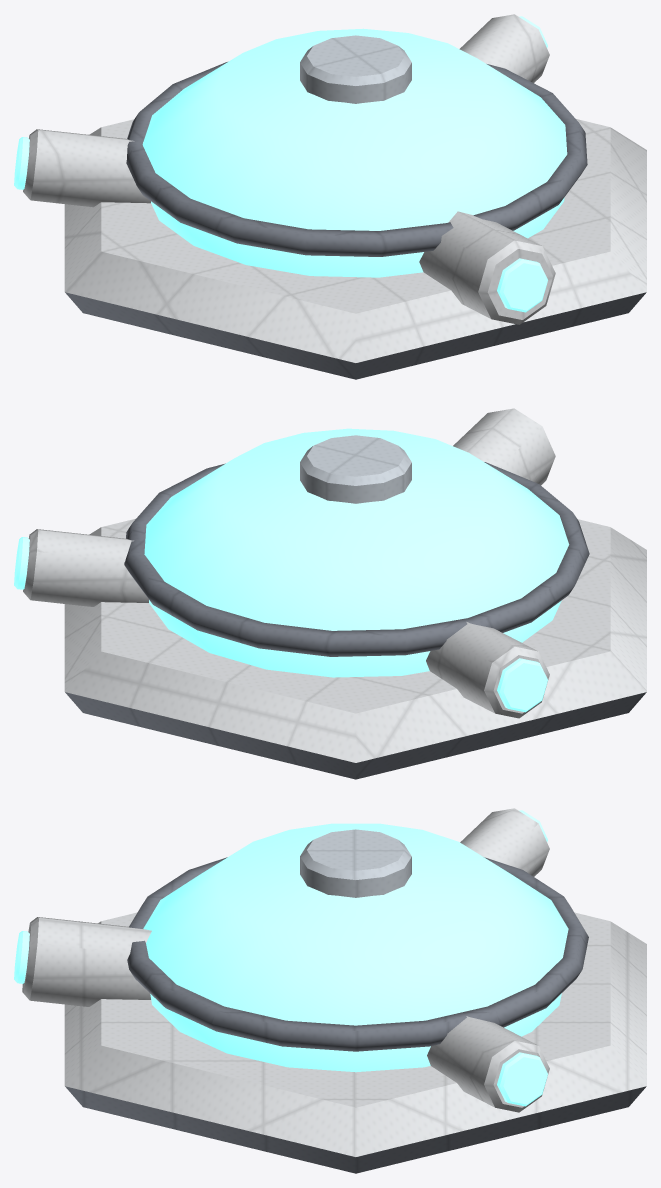
Rendered from R4D_SlowTrap.glb.
The picture shows the model from 3 angles, top to bottom: view 1: azimuth 30°, elevation 25°; view 2: azimuth 150°, elevation 25°; view 3: azimuth 270°, elevation 25°; orthographic projection.
Parts seen in each view (by area): view 1: R4D_SlowTrap_Body; view 2: R4D_SlowTrap_Body; view 3: R4D_SlowTrap_Body.
Boxes of the visible parts, left/top/right/bottom form: R4D_SlowTrap_Body: left=14, top=14, right=646, bottom=379; R4D_SlowTrap_Body: left=14, top=408, right=646, bottom=779; R4D_SlowTrap_Body: left=14, top=808, right=646, bottom=1173.
Size of the model in its own units: 0.48 by 0.15 by 0.452.
5 materials, 4 textured.
